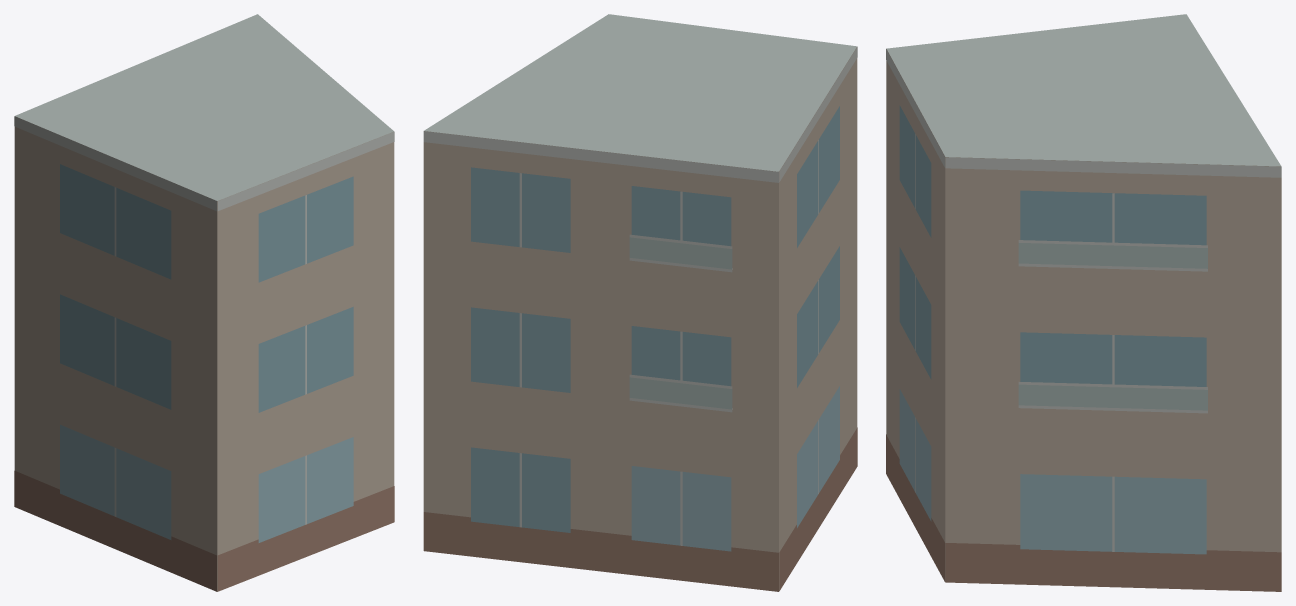
File: survey-upis-32735480.glb
3 renders of one model, left to right at view 1: azimuth 30°, elevation 25°; view 2: azimuth 150°, elevation 25°; view 3: azimuth 270°, elevation 25°, orthographic. The views are drawn at different scales.
Visible parts, largest first — view 1: survey-upis-32735480.tmp; view 2: survey-upis-32735480.tmp; view 3: survey-upis-32735480.tmp.
Boxes of the visible parts, <box> form: survey-upis-32735480.tmp: <box>14,14,394,591</box>; survey-upis-32735480.tmp: <box>423,14,857,591</box>; survey-upis-32735480.tmp: <box>886,14,1281,591</box>.
Size of the model in its own units: 7.04 by 9.15 by 7.72.
